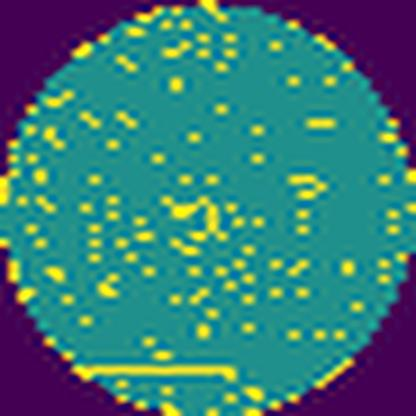Scratch: (69, 359, 242, 385)
